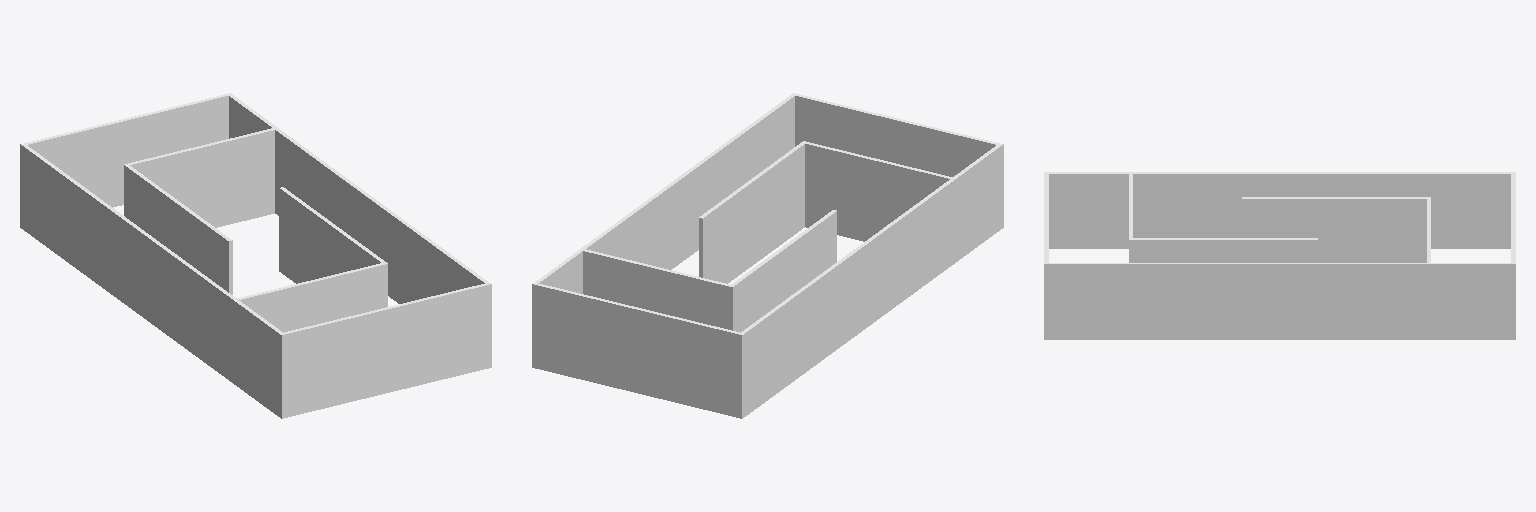
robot.urdf — drone_parcours.urdf:
<?xml version="1.0" ?>
<robot name="drone_parcours.urdf">
  <link concave="yes" name="baseLink">
    <inertial>
      <origin rpy="0 0 0" xyz="0 0 0"/>
       <mass value=".0"/>
       <inertia ixx="0" ixy="0" ixz="0" iyy="0" iyz="0" izz="0"/>
    </inertial>
    <visual>
      <origin rpy="0 0 0" xyz="0 0 0"/>
      <geometry>
				<mesh filename="drone_parcours.obj" scale="1 1 1"/>
      </geometry>
       <material name="white">
        <color rgba="1 1 1 1"/>
      </material>
    </visual>
    <collision concave="yes">
      <origin rpy="0 0 0" xyz="0 0 0"/>
     <geometry>
				<mesh filename="drone_parcours.obj" scale="1 1 1"/>
      </geometry>
    </collision>
  </link>
</robot>

--- What the picture shows (computed from the rendered views, not written in the file) ---
3 views of the same robot in one strip: view 1: azimuth 30°, elevation 25°; view 2: azimuth 150°, elevation 25°; view 3: azimuth 270°, elevation 25° (orthographic).
Model drone_parcours.urdf with 1 links and 0 joints (none), rooted at baseLink, posed all joints at 0.
Links seen in each view (by area): view 1: baseLink; view 2: baseLink; view 3: baseLink.
Boxes of the visible links, x1=… form: baseLink: x1=20, y1=93, x2=491, y2=418; baseLink: x1=532, y1=93, x2=1003, y2=418; baseLink: x1=1044, y1=172, x2=1515, y2=339.
Bounding box of the posed robot: 2.6 × 5.6 × 0.99 m (x, y, z).
Meshes: 1 distinct files referenced, 1 mesh visuals loaded (1 OBJ).